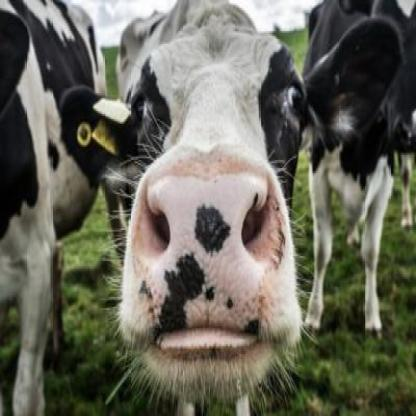lower: (189, 356, 230, 388)
mouth: (126, 148, 300, 402)
upper: (184, 210, 226, 262)
